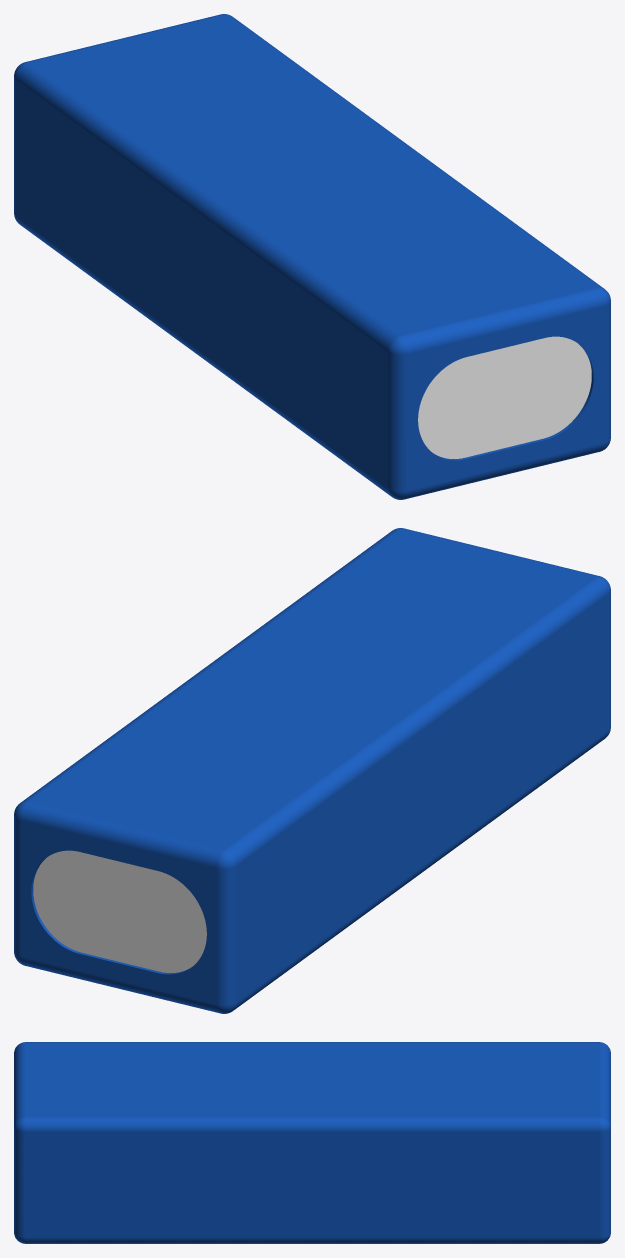
File: BATERIA.dae
3 views of the same model, one above another, from view 1: azimuth 30°, elevation 25°; view 2: azimuth 150°, elevation 25°; view 3: azimuth 270°, elevation 25° (orthographic). The views are drawn at different scales.
Parts seen in each view (by area): view 1: BATERIA; view 2: BATERIA; view 3: BATERIA.
Boxes of the visible parts, x1=… form: BATERIA: x1=14, y1=14, x2=610, y2=499; BATERIA: x1=14, y1=528, x2=610, y2=1013; BATERIA: x1=14, y1=1042, x2=610, y2=1243.
Bounding box in the file's own units: 0.034 × 0.103 × 0.024.
